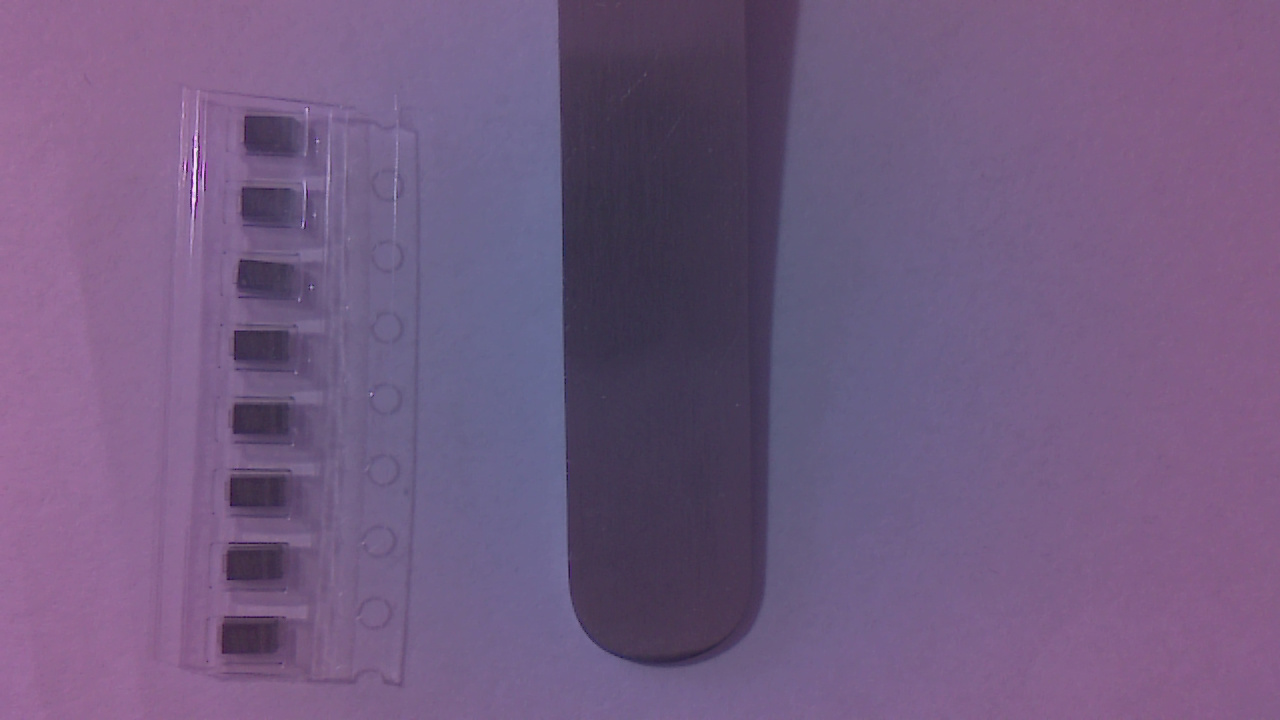Diode: (233, 115, 311, 162), (235, 260, 307, 306), (238, 188, 314, 231), (218, 621, 289, 664), (226, 547, 297, 589), (232, 330, 299, 371), (228, 477, 298, 514), (231, 405, 298, 443)
